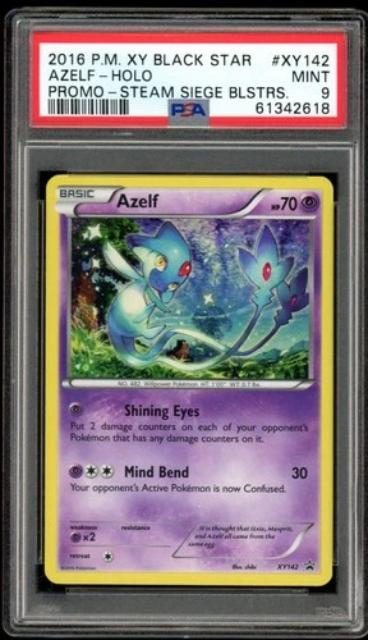Card: (40, 168, 335, 591)
Name: (113, 186, 161, 211)
